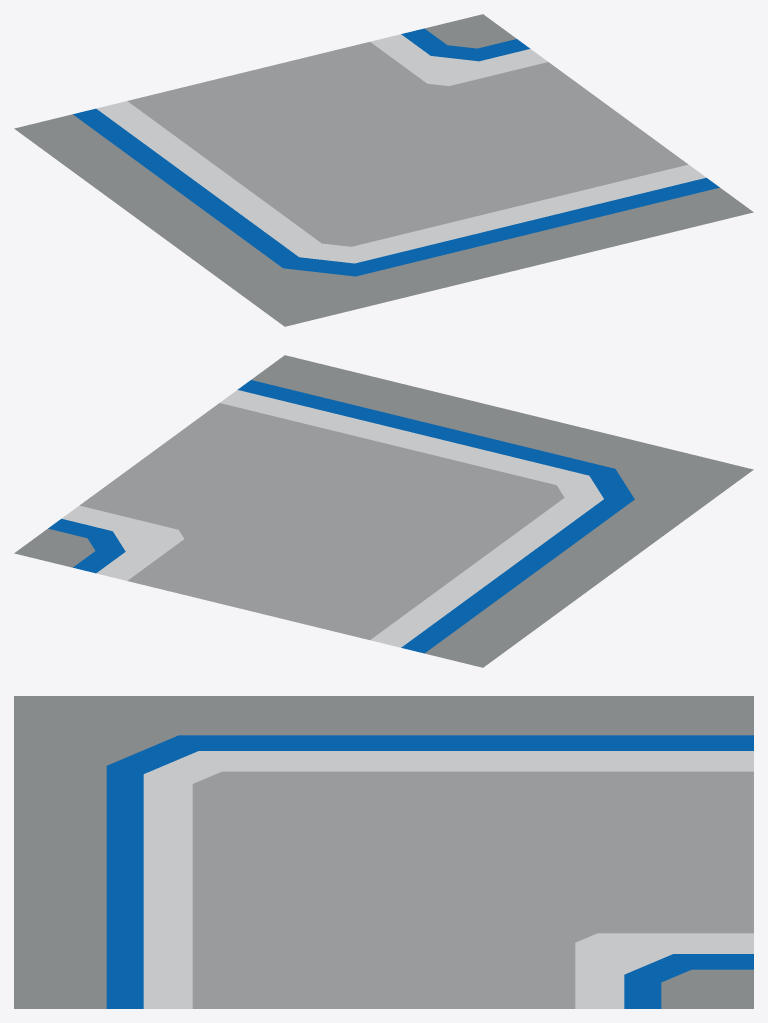
The model's file is Ceiling_type_A_004.fbx.
The picture shows the model from 3 angles, top to bottom: view 1: azimuth 30°, elevation 25°; view 2: azimuth 150°, elevation 25°; view 3: azimuth 270°, elevation 25°; orthographic projection. The views are drawn at different scales.
Visible parts, largest first — view 1: Ceiling_type_A_004; view 2: Ceiling_type_A_004; view 3: Ceiling_type_A_004.
Part boxes in pixels (x1=…): Ceiling_type_A_004: x1=14, y1=14, x2=753, y2=326; Ceiling_type_A_004: x1=14, y1=355, x2=753, y2=667; Ceiling_type_A_004: x1=14, y1=696, x2=753, y2=1008.
Size of the model in its own units: 400 by 400 by 4.55.
